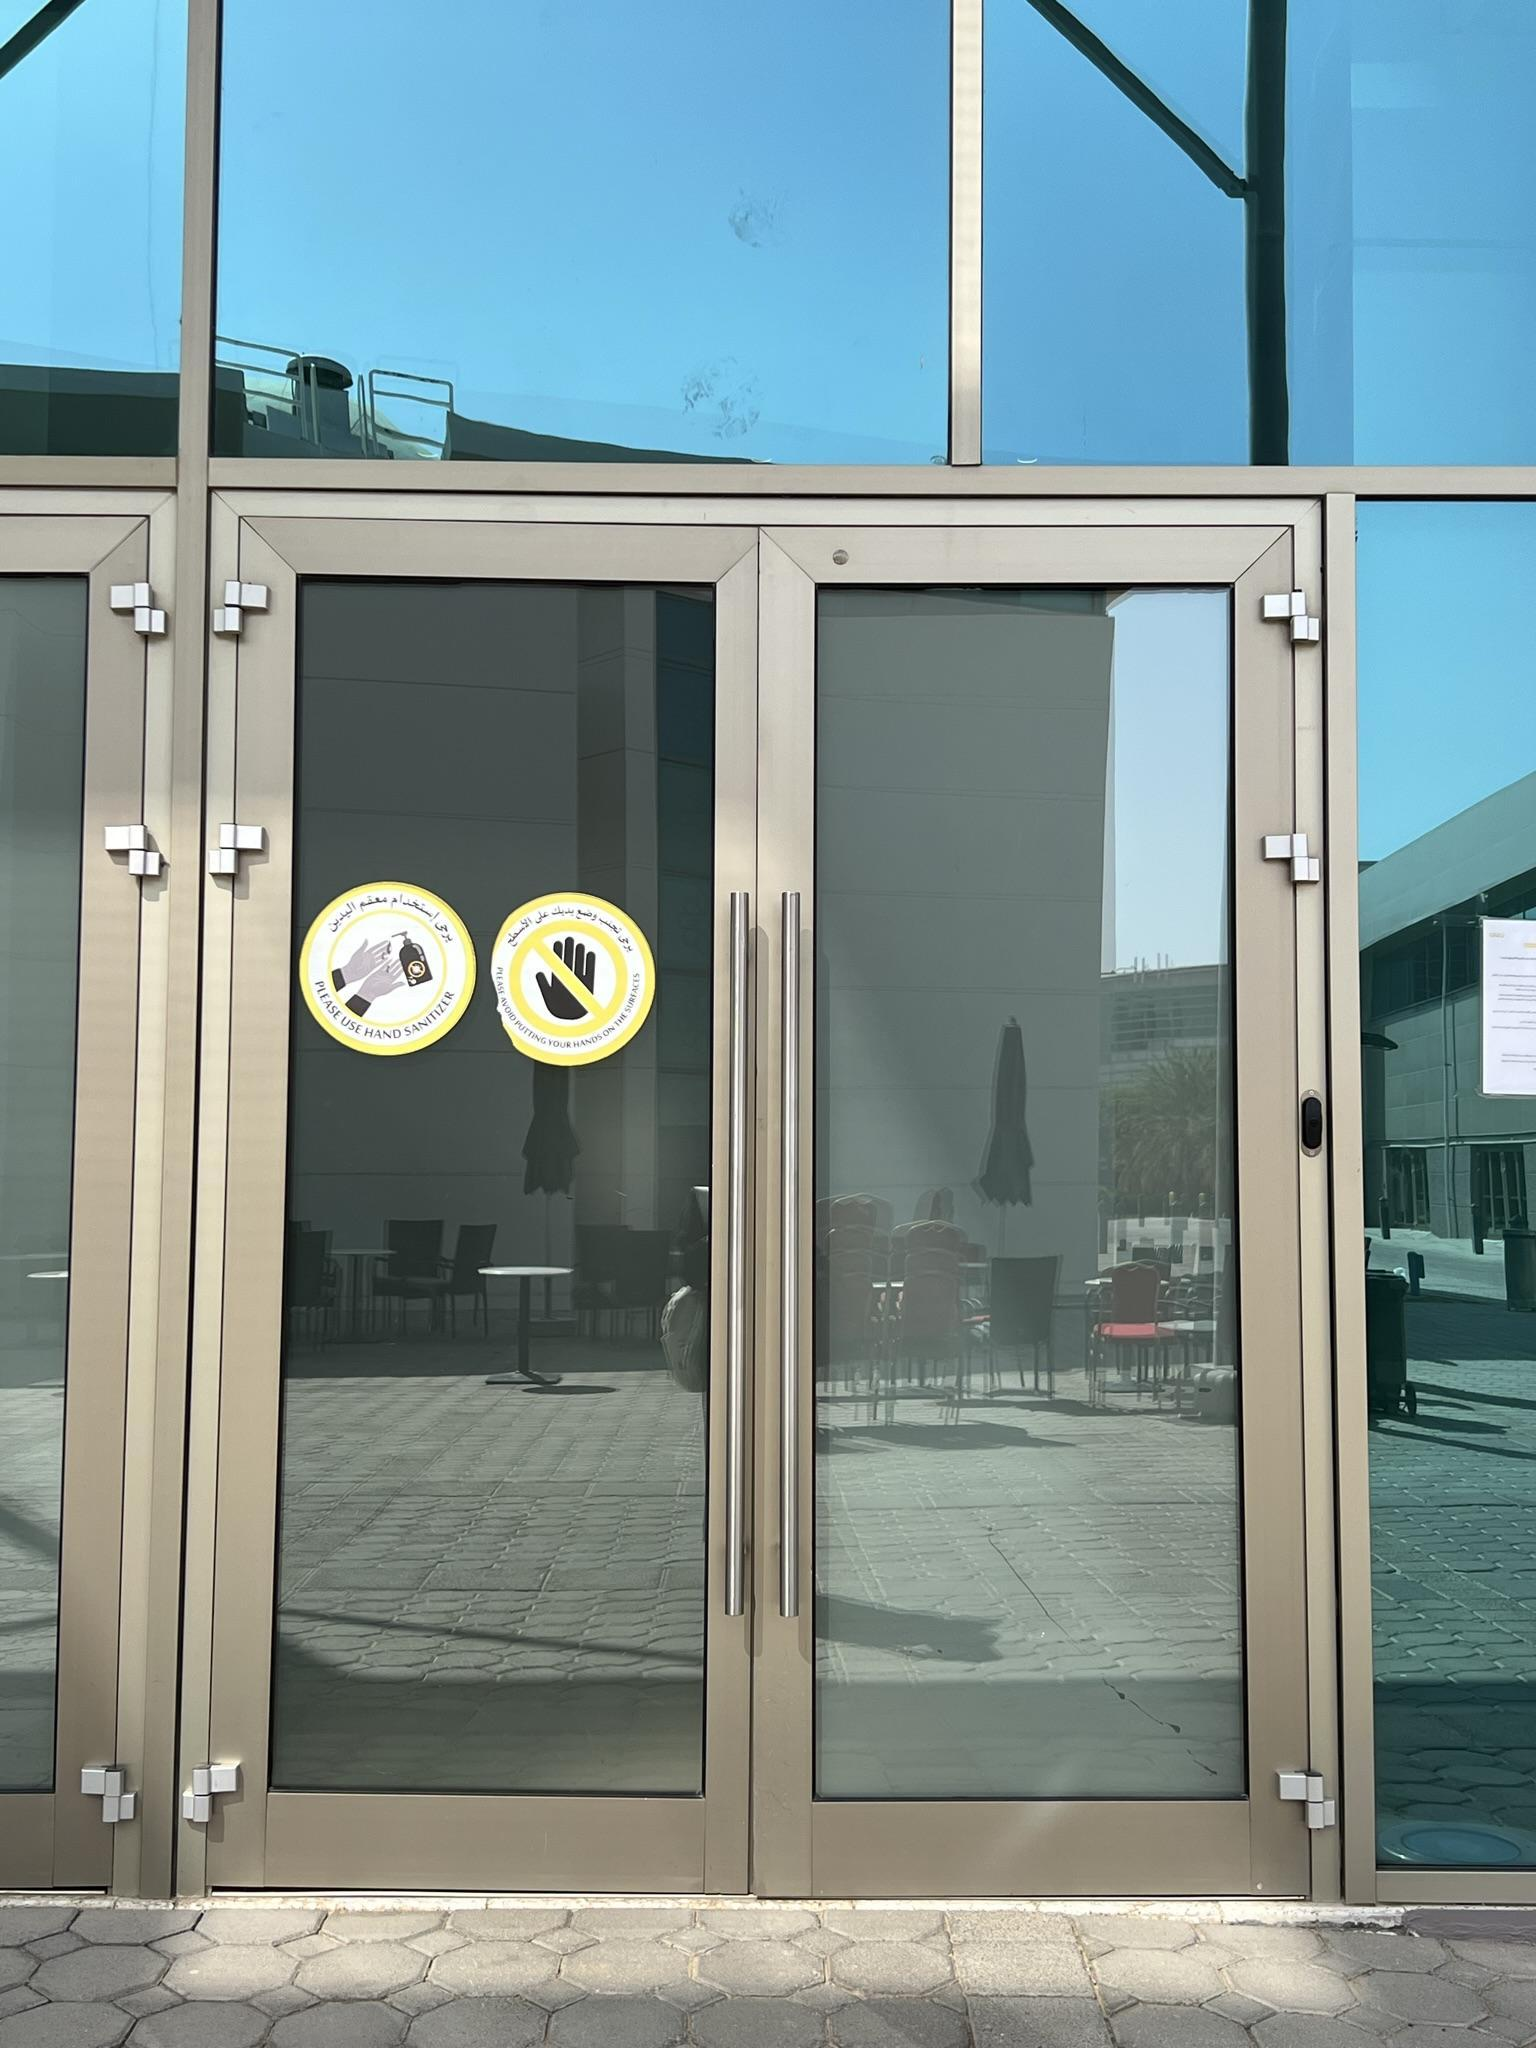door: (787, 531, 1309, 1866), (242, 542, 749, 1879)
handle: (774, 890, 807, 1619), (726, 890, 749, 1619)
